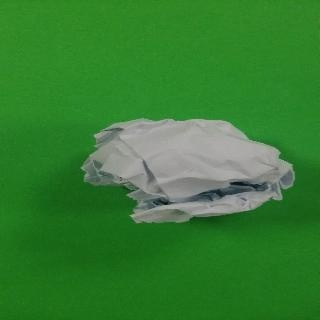8/可回收垃圾/纸: (80, 118, 295, 224)
